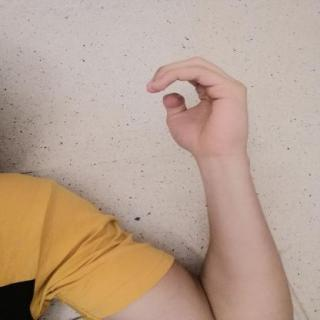JEEM: (135, 50, 266, 164)
